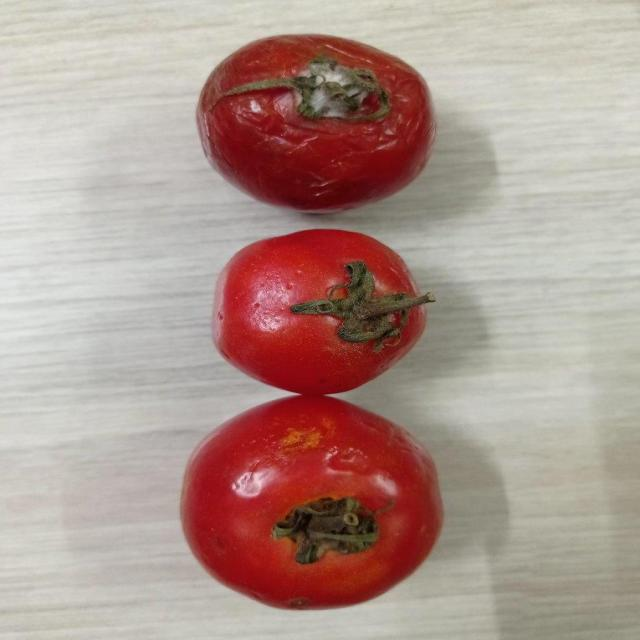Rotten: (178, 394, 447, 611), (199, 35, 435, 215)
